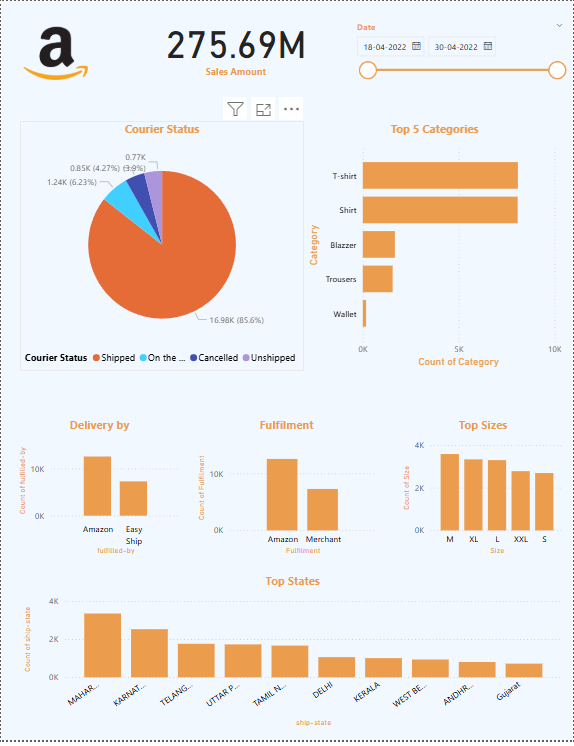

Layout of this report page (visuals, bound fields, positions):
{"tool":"powerbi","page":{"name":"Page 1","canvas":[816,1056],"ordinal":0},"visuals":[{"type":"image","box":[27,23,102,103],"z":0},{"type":"card","fields":{"Values":["Sum(Amazon Sale Report.Amount)"]},"box":[176,0,320,127],"z":1000},{"type":"slicer","fields":{"Values":["Amazon Sale Report.Date"]},"box":[496,23,320,127],"z":2000},{"type":"barChart","title":"Top 5 Categories","fields":{"Category":["Amazon Sale Report.Category"],"Y":["CountNonNull(Amazon Sale Report.Category)"]},"box":[433,171,373,357],"z":3000},{"type":"pieChart","title":"Courier Status","fields":{"Category":["Amazon Sale Report.Courier Status"],"Y":["CountNonNull(Amazon Sale Report.Courier Status)"]},"box":[27,171,406,357],"z":4000},{"type":"columnChart","title":"Delivery by","fields":{"Category":["Amazon Sale Report.fulfilled-by"],"Y":["CountNonNull(Amazon Sale Report.fulfilled-by)"]},"box":[20,594,242,201],"z":5000},{"type":"columnChart","title":"Fulfilment","fields":{"Category":["Amazon Sale Report.Fulfilment"],"Y":["CountNonNull(Amazon Sale Report.Fulfilment)"]},"box":[275,594,265,201],"z":6000},{"type":"columnChart","title":"Top Sizes","fields":{"Category":["Amazon Sale Report.Size"],"Y":["CountNonNull(Amazon Sale Report.Size)"]},"box":[569,594,240,201],"z":7000},{"type":"clusteredColumnChart","title":"Top States","fields":{"Category":["Amazon Sale Report.ship-state"],"Y":["CountNonNull(Amazon Sale Report.ship-state)"]},"box":[27,817,779,224],"z":7001}]}

Visuals, with their boxes in screenshot pixels (x1, y1, x2, y2), scaled from the page's 816x1056 canvas onto the 574x746 screenshot:
image: {"left": 19, "top": 16, "right": 91, "bottom": 89}
card - Sum(Amazon Sale Report.Amount): {"left": 124, "top": 0, "right": 349, "bottom": 90}
slicer - Amazon Sale Report.Date: {"left": 349, "top": 16, "right": 573, "bottom": 106}
"Top 5 Categories" barChart: {"left": 305, "top": 121, "right": 567, "bottom": 373}
"Courier Status" pieChart: {"left": 19, "top": 121, "right": 305, "bottom": 373}
"Delivery by" columnChart: {"left": 14, "top": 420, "right": 184, "bottom": 562}
"Fulfilment" columnChart: {"left": 193, "top": 420, "right": 380, "bottom": 562}
"Top Sizes" columnChart: {"left": 400, "top": 420, "right": 569, "bottom": 562}
"Top States" clusteredColumnChart: {"left": 19, "top": 577, "right": 567, "bottom": 735}
